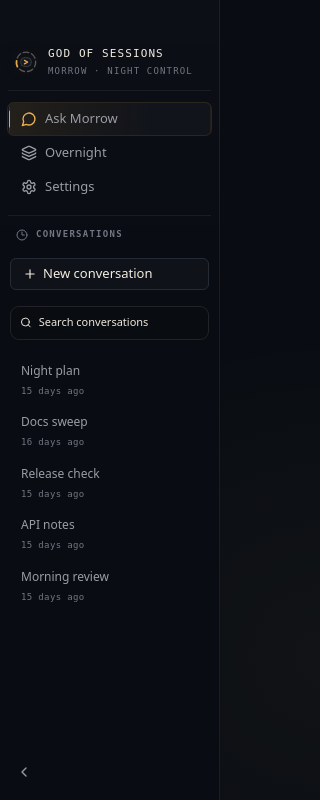
Test: V2 navigation › searches a longer conversation history without changing the records
Type "docs" into the search field labelled "Search conversations". click: (119, 323)
box: [39,314,199,331]
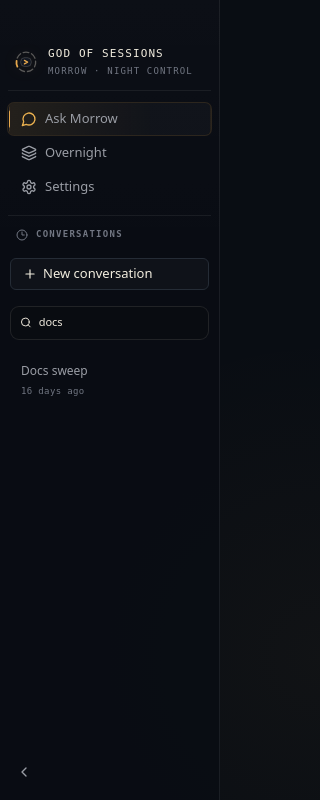
Expected: the button "Docs sweep 16 days ago" is shown, [8,356,211,405]
Expected: the button "Night plan" is gone
